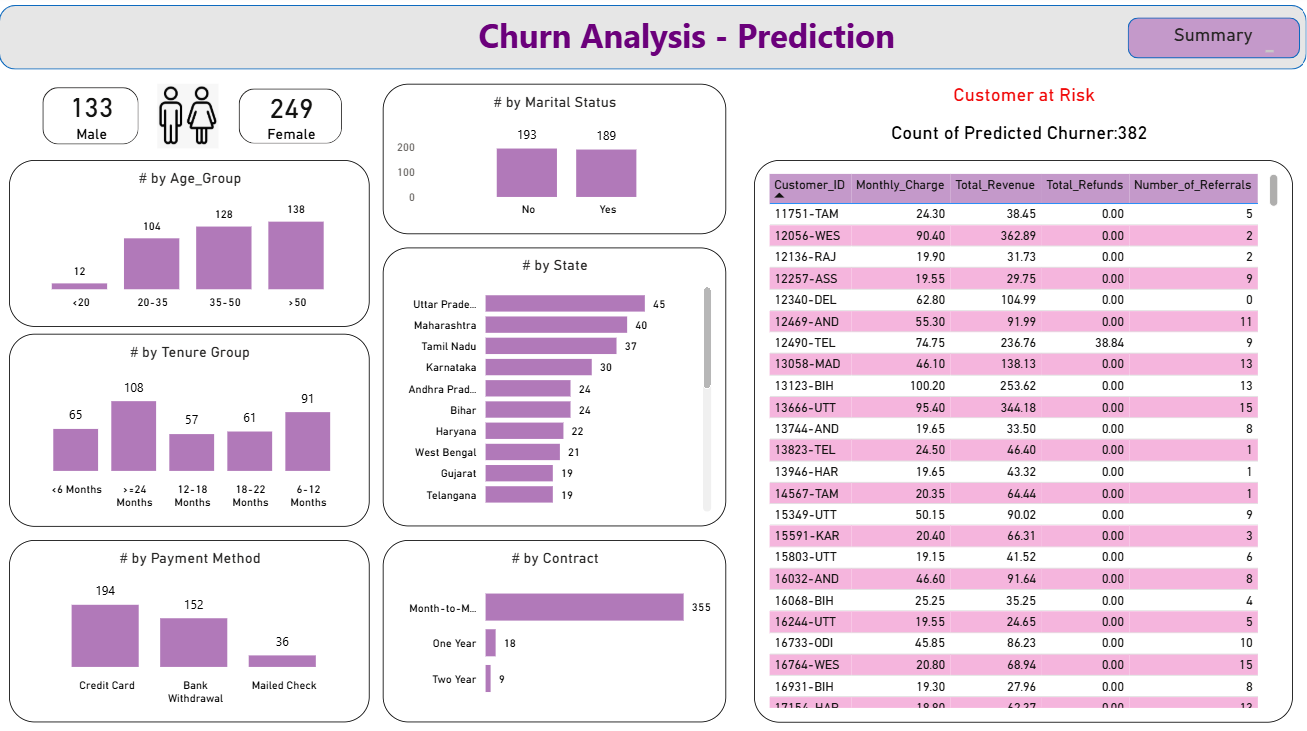

The page's visual inventory and layout, read from the dashboard file:
{"tool":"powerbi","page":{"name":"Churn Prediction","canvas":[1280,720],"ordinal":2},"visuals":[{"type":"tableEx","title":"Customer at Risk","fields":{"Values":["Prediction_Churn.Customer_ID","Prediction_Churn.Monthly_Charge","Prediction_Churn.Total_Revenue","Prediction_Churn.Total_Refunds","Prediction_Churn.Number_of_Referrals"]},"box":[738.6,161.4,527.1,550],"z":0},{"type":"cardVisual","title":"Customer at Risk","fields":{"Data":["Measures (2).Title Predicted Churner"]},"box":[844.3,87.1,318.6,74.3],"z":1000},{"type":"cardVisual","fields":{"Data":["Measures (2).Count Predicted Churner"]},"box":[217.1,74.3,135.7,88.6],"z":2000},{"type":"cardVisual","fields":{"Data":["Measures (2).Count Predicted Churner"]},"box":[25.7,72.9,128.6,90],"z":3000},{"type":"columnChart","fields":{"Category":["Mapping_Age.Age_Group"],"Y":["CountNonNull(Prediction_Churn.Customer_ID)"]},"box":[10,161.4,352.9,162.9],"z":4000},{"type":"columnChart","fields":{"Y":["CountNonNull(Prediction_Churn.Customer_ID)"],"Category":["Prediction_Churn.Married"]},"box":[375.7,87.1,335.7,147.1],"z":5000},{"type":"columnChart","fields":{"Y":["CountNonNull(Prediction_Churn.Customer_ID)"],"Category":["Mapping_Tenure.Tenure_Agegroup"]},"box":[10,331.4,352.9,188.6],"z":6000},{"type":"columnChart","fields":{"Y":["CountNonNull(Prediction_Churn.Customer_ID)"],"Category":["Prediction_Churn.Payment_Method"]},"box":[10,532.9,352.9,178.6],"z":7000},{"type":"clusteredBarChart","fields":{"Category":["Prediction_Churn.Contract"],"Y":["CountNonNull(Prediction_Churn.Customer_ID)"]},"box":[375.7,532.9,335.7,178.6],"z":8000},{"type":"clusteredBarChart","fields":{"Category":["Prediction_Churn.State"],"Y":["CountNonNull(Prediction_Churn.Customer_ID)"]},"box":[375.7,247.1,335.7,272.9],"z":9000},{"type":"shape","box":[0,9.6,1280.3,63.1],"z":10000},{"type":"shape","box":[1104.3,21.4,168.6,40],"z":11000},{"type":"textbox","title":"Summary","box":[1124.3,28.6,128.6,32.9],"z":12000},{"type":"textbox","box":[452.8,12.3,440.5,59],"z":13000},{"type":"image","box":[128.6,87.1,112.9,62.9],"z":14000}]}

Visuals, with their boxes in screenshot pixels (x1, y1, x2, y2), scaled from the page's 1280x720 canvas onto the 1307x731 screenshot:
"Customer at Risk" tableEx: <region>754, 164, 1292, 722</region>
"Customer at Risk" cardVisual: <region>862, 88, 1187, 164</region>
cardVisual - Measures (2).Count Predicted Churner: <region>222, 75, 360, 165</region>
cardVisual - Measures (2).Count Predicted Churner: <region>26, 74, 158, 165</region>
columnChart - Mapping_Age.Age_Group x CountNonNull(Prediction_Churn.Customer_ID): <region>10, 164, 371, 329</region>
columnChart - CountNonNull(Prediction_Churn.Customer_ID) x Prediction_Churn.Married: <region>384, 88, 726, 238</region>
columnChart - CountNonNull(Prediction_Churn.Customer_ID) x Mapping_Tenure.Tenure_Agegroup: <region>10, 336, 371, 528</region>
columnChart - CountNonNull(Prediction_Churn.Customer_ID) x Prediction_Churn.Payment_Method: <region>10, 541, 371, 722</region>
clusteredBarChart - Prediction_Churn.Contract x CountNonNull(Prediction_Churn.Customer_ID): <region>384, 541, 726, 722</region>
clusteredBarChart - Prediction_Churn.State x CountNonNull(Prediction_Churn.Customer_ID): <region>384, 251, 726, 528</region>
shape: <region>0, 10, 1306, 74</region>
shape: <region>1128, 22, 1300, 62</region>
"Summary" textbox: <region>1148, 29, 1279, 62</region>
textbox: <region>462, 12, 912, 72</region>
image: <region>131, 88, 247, 152</region>
